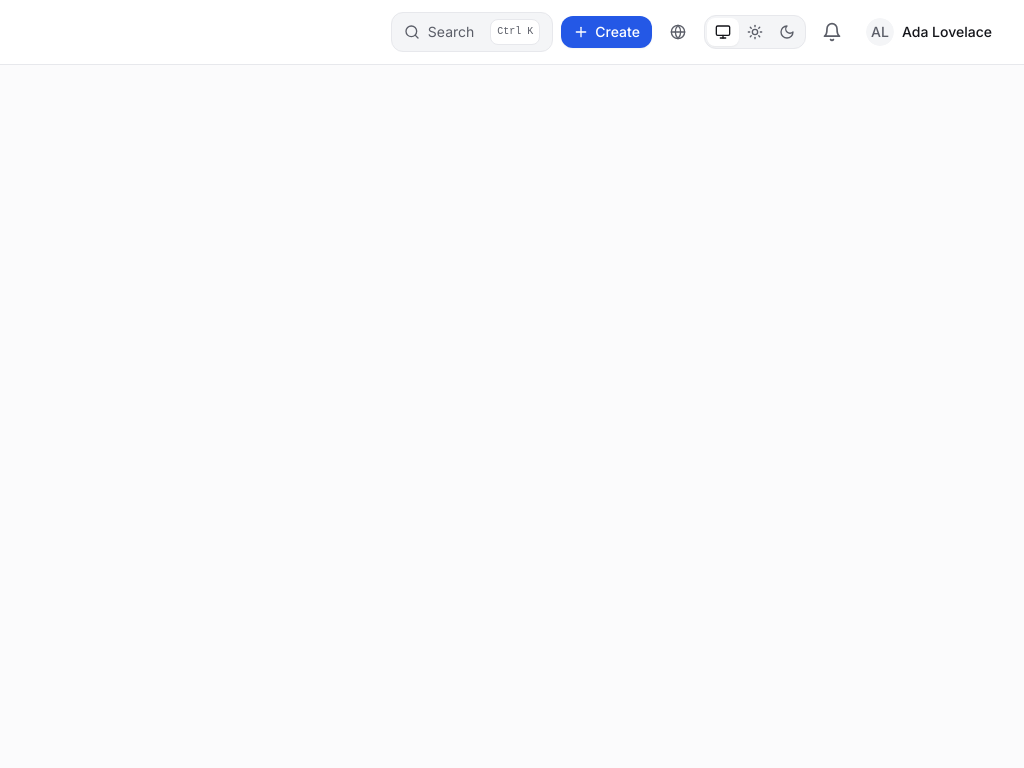
Test: MarketingHeader — edit profile / phone + SMS-2FA currentPassword gate › blocks submit locally with a required-password message when the field is empty
The width and height of the screenshot is (1024, 768).
Click the text "Ada Lovelace": click(947, 32) [902,22,992,42]
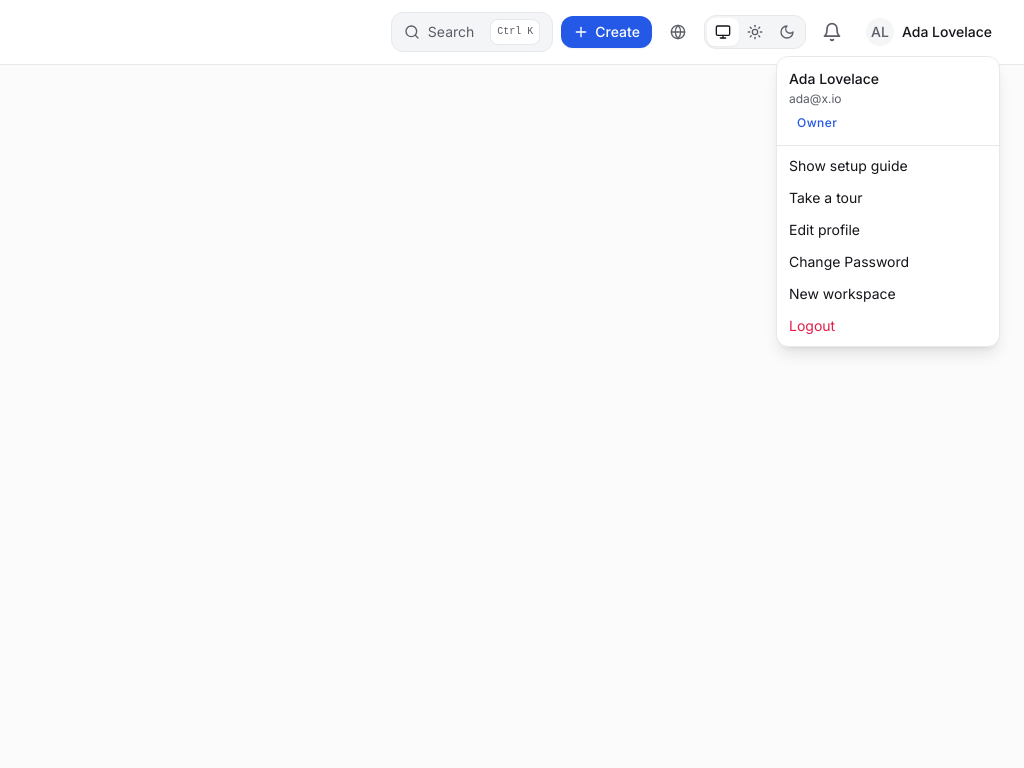
Click the menu item "Edit profile": click(824, 230) [789,221,860,238]
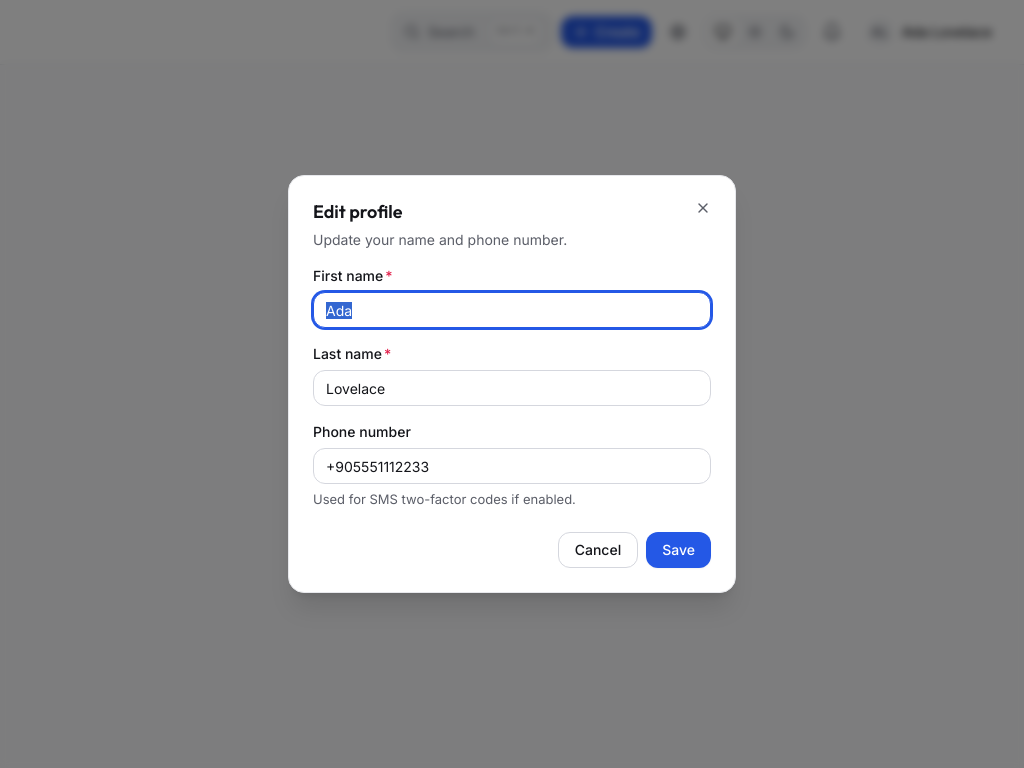
Result: the field labelled "First name*" is shown at [313,292,711,328]
Clear the field with placeholder "+905XXXXXXXXX": (512, 466) [313,448,711,484]
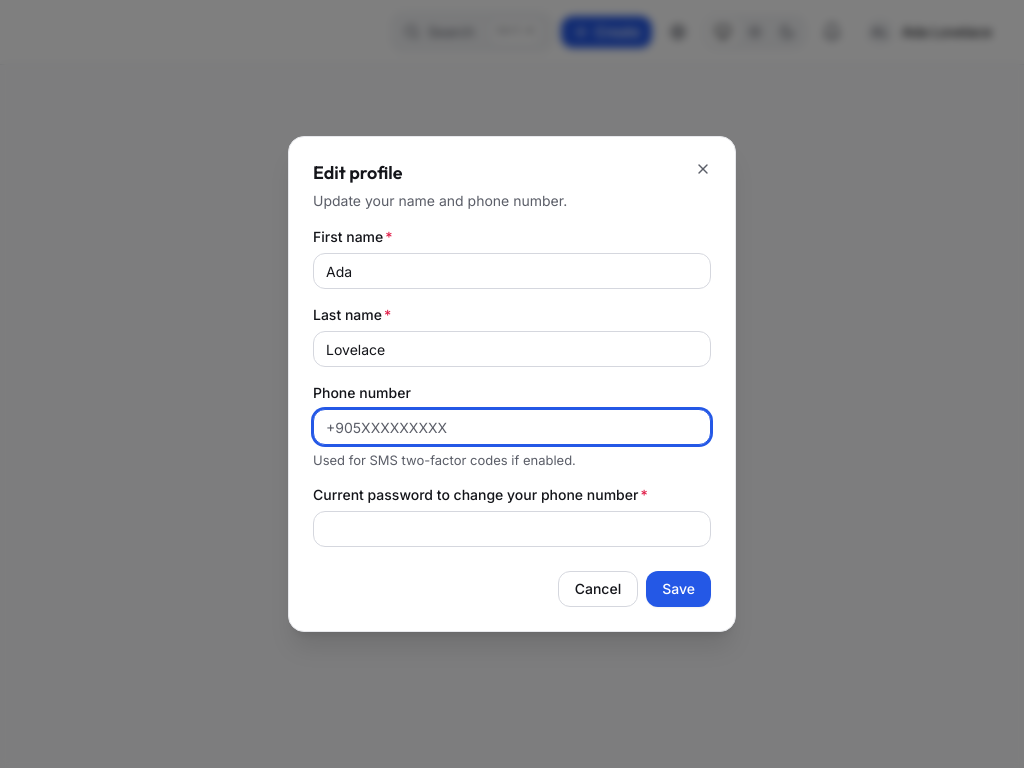
In the field with placeholder "+905XXXXXXXXX": (512, 427) [313,409,711,445], type "+905559998877"
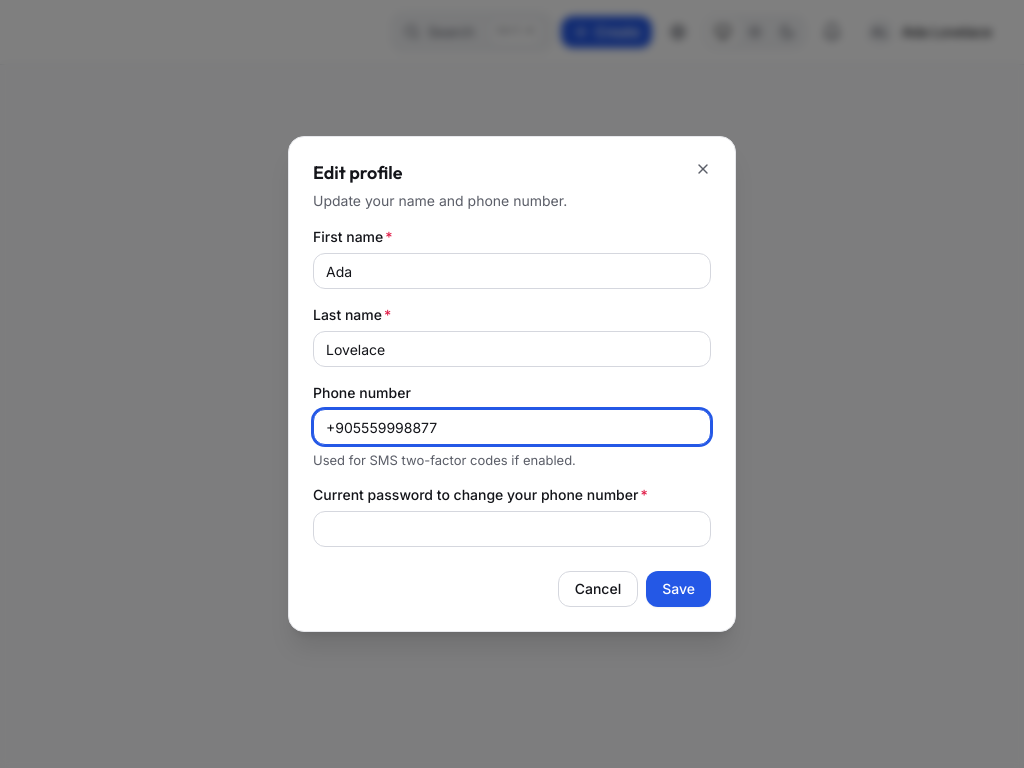
Result: the password field labelled "Current password to change your phone number*" is shown at [313,511,711,547]
Click the button "Save": click(679, 589) [646,571,711,607]
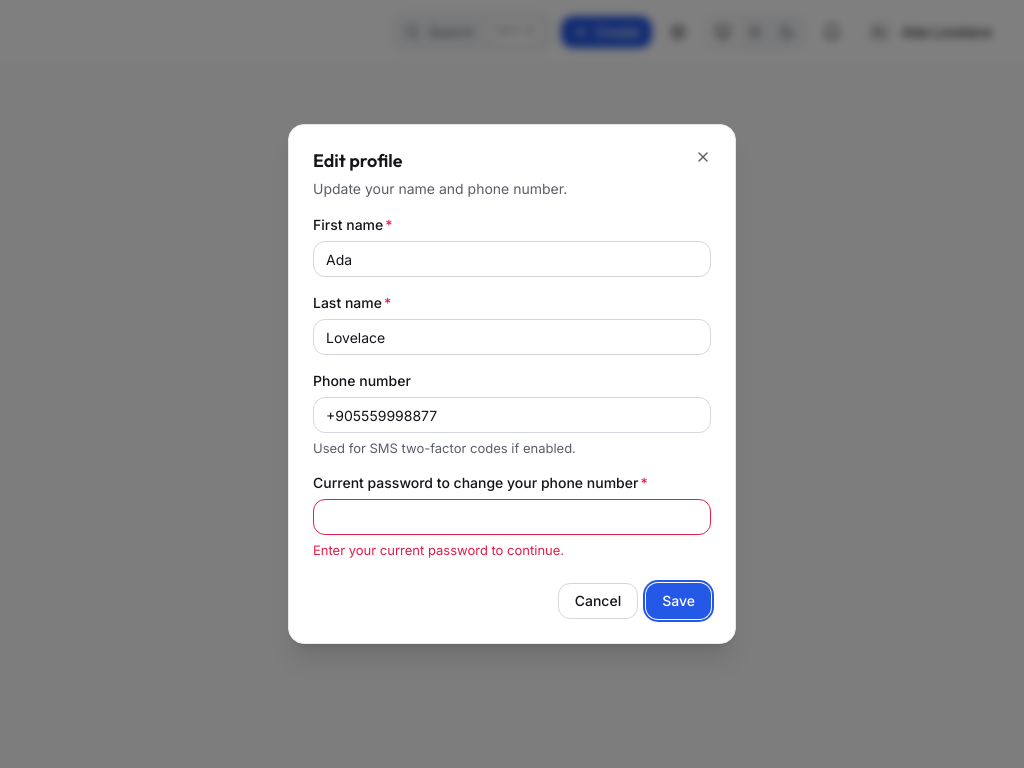
Result: the text "Enter your current password to continue." is shown at [313,542,564,558]
